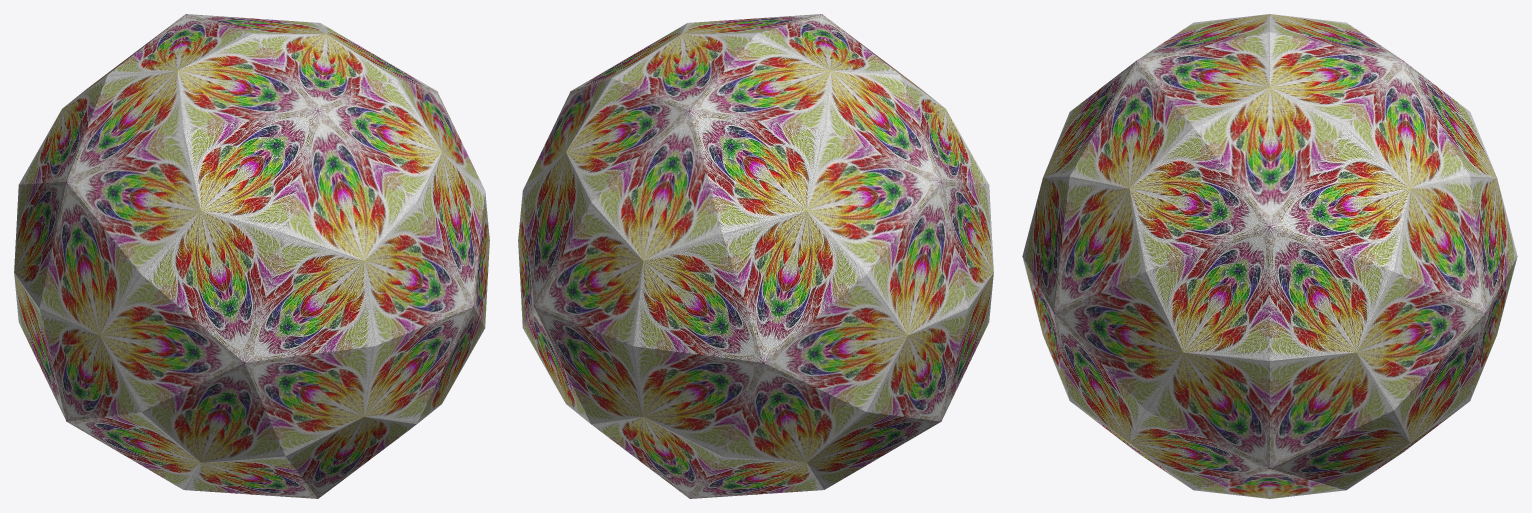
File: DeltoidalHexecontahedron5.obj
3 views of the same model, side by side, from view 1: azimuth 30°, elevation 25°; view 2: azimuth 150°, elevation 25°; view 3: azimuth 270°, elevation 25° (orthographic).
Size of the model in its own units: 4.47 by 4.47 by 4.47.
Materials: 1 (1 with a texture image).
